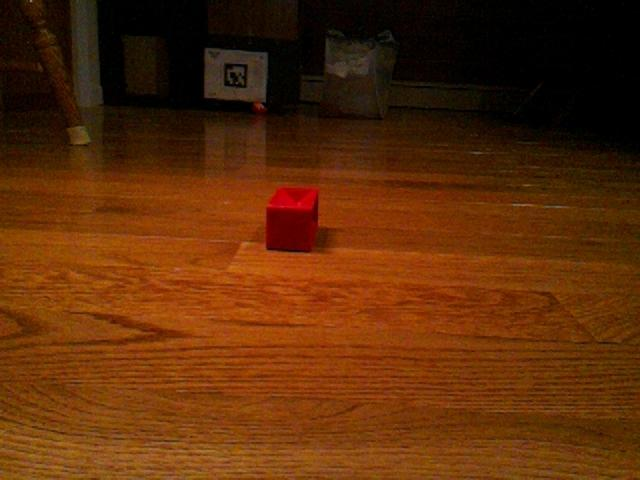red: (264, 185, 320, 253)
